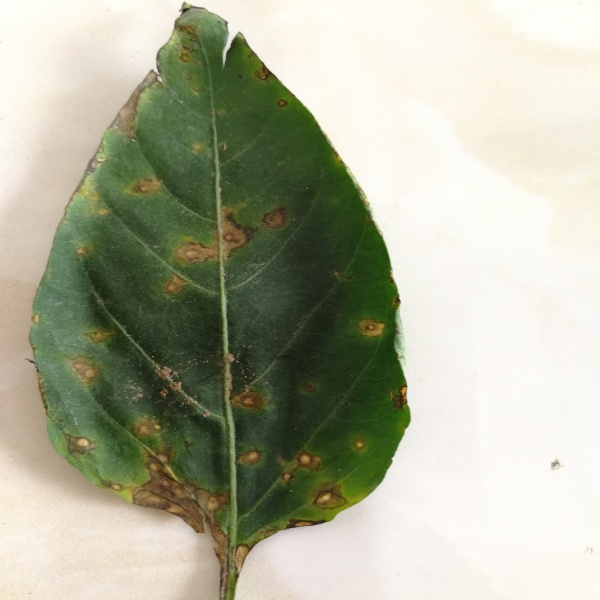Anthrax: (34, 4, 412, 573)
